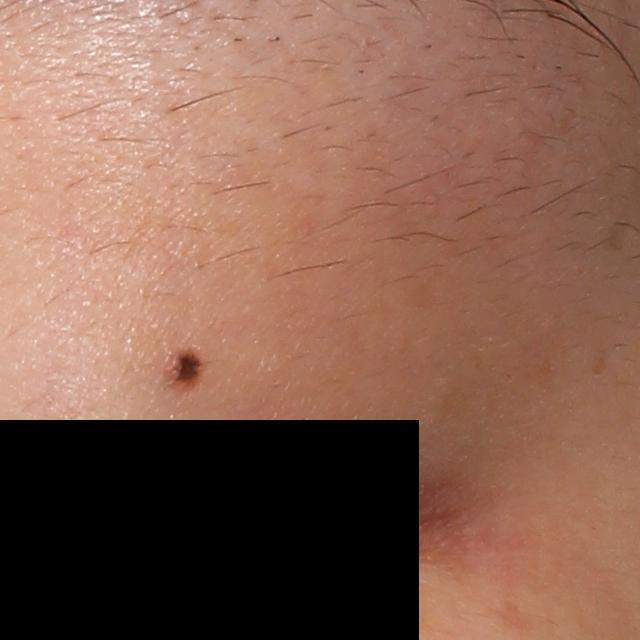melasma: (489, 594, 536, 632), (585, 346, 613, 381)
nevus: (173, 351, 201, 387)
